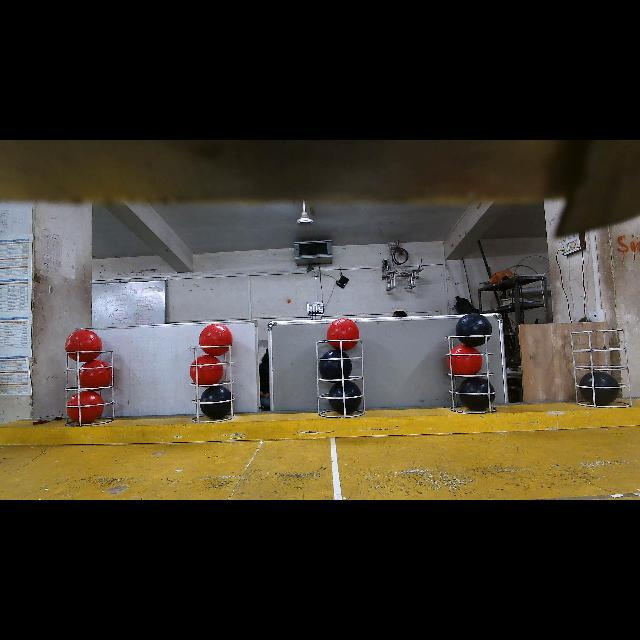P: (579, 371, 621, 406), (456, 313, 492, 347), (459, 377, 495, 411), (328, 380, 362, 414), (200, 386, 234, 419), (319, 350, 352, 384)
R: (65, 330, 102, 362), (67, 391, 104, 423), (447, 345, 482, 378), (199, 324, 232, 356), (189, 355, 224, 385), (328, 319, 360, 350), (79, 360, 112, 389)
S: (568, 328, 634, 410), (442, 334, 502, 414), (314, 336, 368, 420), (64, 350, 116, 428), (190, 345, 238, 423)
